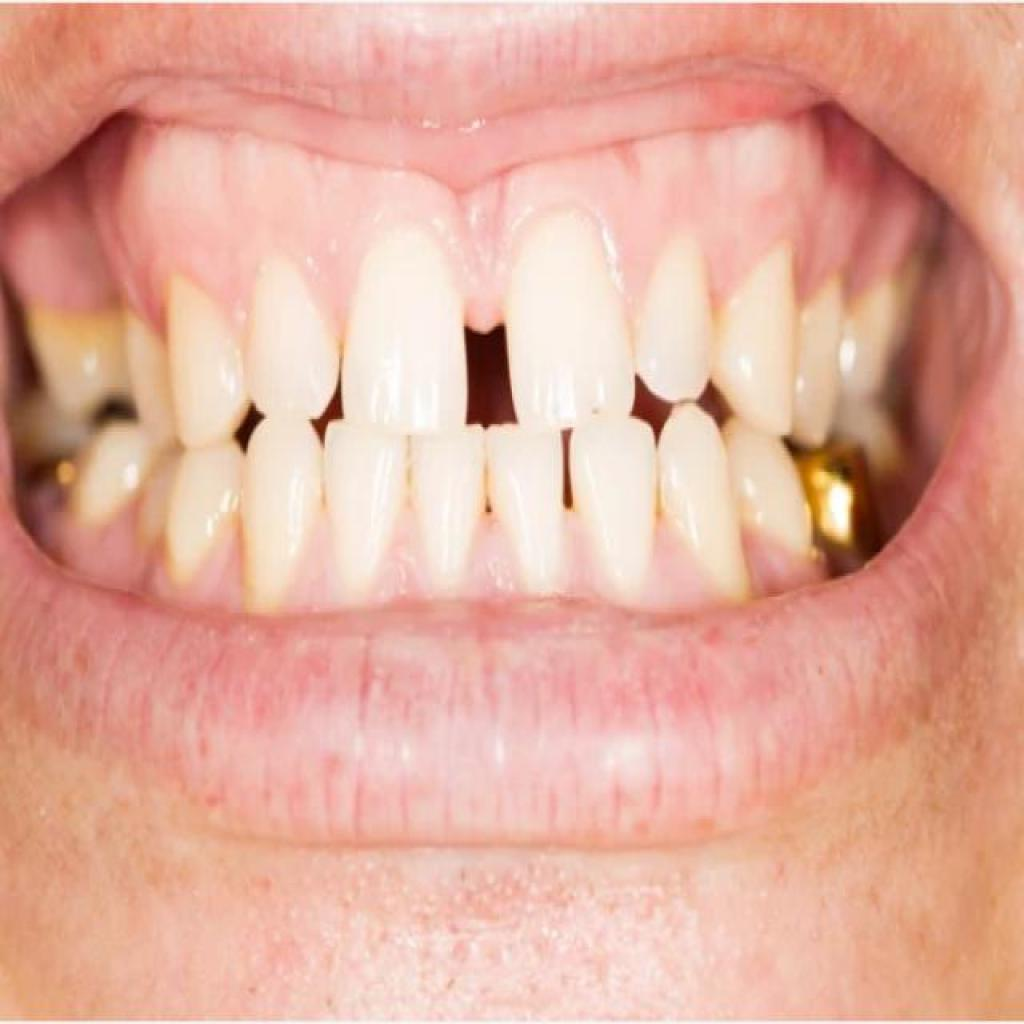Gap: (394, 283, 559, 423), (526, 429, 616, 532)
Healthy: (659, 220, 848, 406), (164, 266, 332, 429), (330, 427, 491, 588)
